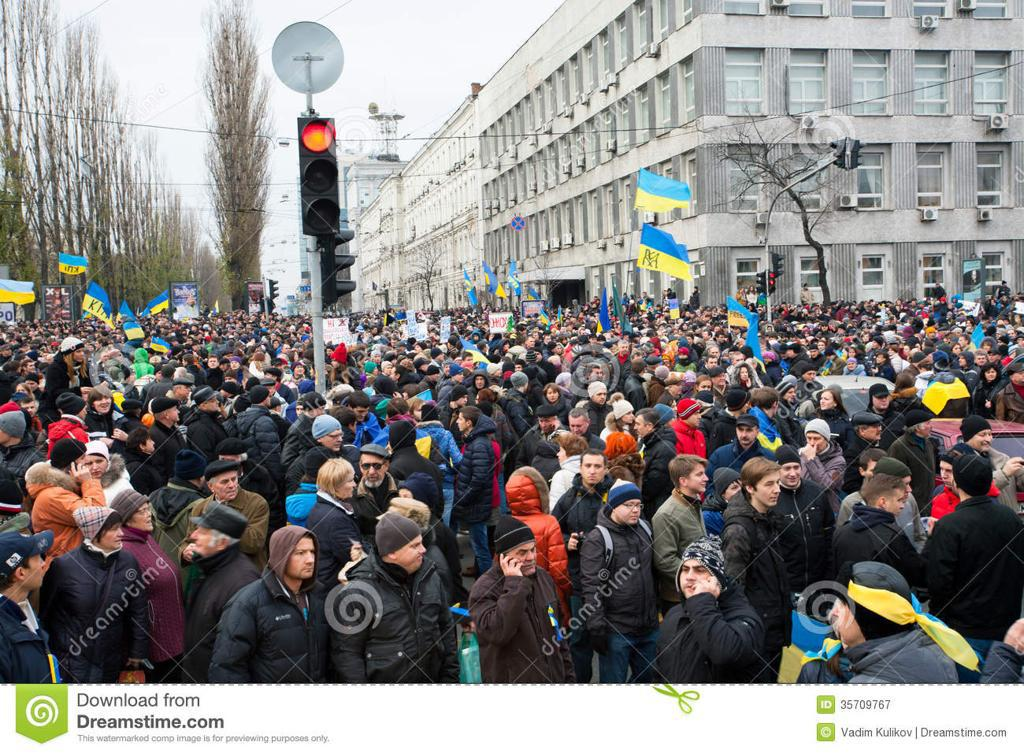face: (832, 595, 862, 649), (680, 560, 711, 600), (287, 541, 315, 579), (398, 534, 427, 570), (508, 546, 537, 577), (191, 522, 219, 552), (755, 475, 781, 507), (24, 554, 47, 590), (218, 455, 243, 482), (101, 522, 125, 550), (361, 457, 385, 484), (131, 504, 154, 532), (616, 499, 640, 525), (214, 474, 238, 499), (582, 458, 604, 484), (86, 456, 108, 479), (689, 467, 709, 492), (971, 429, 993, 451), (781, 464, 802, 487), (338, 475, 358, 498), (323, 430, 343, 451), (736, 425, 757, 445), (940, 461, 955, 489), (887, 492, 905, 514), (807, 433, 826, 452), (725, 481, 742, 502), (94, 395, 112, 413), (569, 419, 588, 436), (866, 422, 882, 440), (634, 418, 649, 437), (873, 393, 890, 409), (354, 407, 370, 422), (539, 417, 554, 433), (820, 393, 833, 411), (75, 453, 90, 468), (593, 391, 608, 406), (558, 445, 569, 465), (690, 409, 702, 427), (700, 381, 712, 399), (21, 404, 36, 418), (921, 422, 935, 437), (457, 413, 468, 432), (865, 463, 878, 479), (903, 479, 912, 502), (208, 397, 220, 412), (668, 401, 678, 418), (415, 405, 427, 419), (170, 407, 181, 422), (740, 396, 750, 412), (26, 380, 39, 392), (456, 394, 469, 406), (622, 411, 635, 423), (73, 349, 84, 363), (78, 406, 88, 421), (180, 384, 191, 397), (547, 389, 558, 402), (804, 371, 817, 382), (145, 437, 155, 451), (591, 369, 603, 380), (786, 389, 796, 402), (986, 369, 997, 380), (673, 382, 683, 394), (715, 374, 725, 386), (476, 376, 485, 389), (314, 406, 325, 416), (1014, 371, 1024, 382), (209, 359, 219, 369), (295, 366, 305, 376), (710, 349, 720, 359), (977, 356, 987, 366), (297, 407, 306, 418), (741, 368, 749, 380), (266, 386, 275, 396), (621, 345, 630, 355), (709, 360, 718, 370), (989, 352, 998, 362), (456, 371, 464, 382), (231, 361, 240, 370), (27, 364, 35, 374), (332, 359, 340, 369), (225, 376, 236, 383), (265, 373, 274, 381), (385, 366, 393, 375), (765, 356, 773, 365), (535, 352, 542, 362), (4, 349, 12, 357), (102, 355, 110, 363), (528, 339, 536, 347), (810, 350, 818, 358), (156, 371, 163, 380), (433, 373, 440, 382), (445, 366, 452, 375), (495, 368, 502, 377), (781, 350, 788, 359), (877, 355, 884, 364), (954, 346, 961, 355), (960, 356, 966, 366), (220, 363, 227, 371), (283, 346, 291, 353), (420, 364, 428, 371), (516, 365, 523, 373), (680, 352, 688, 359), (863, 334, 870, 342), (438, 352, 444, 361), (735, 357, 744, 363), (904, 346, 910, 355), (960, 338, 966, 347), (818, 343, 825, 350), (848, 363, 855, 370), (375, 355, 381, 363), (719, 336, 725, 344), (788, 349, 794, 357), (17, 387, 26, 392), (374, 366, 379, 375), (415, 346, 422, 352), (635, 354, 642, 360), (687, 337, 693, 344), (769, 335, 776, 341), (849, 350, 855, 357), (984, 344, 990, 351), (557, 347, 562, 355), (827, 352, 832, 360), (873, 340, 878, 348), (533, 334, 539, 340), (226, 354, 233, 359), (294, 353, 299, 360), (704, 333, 708, 341), (88, 346, 94, 351), (547, 337, 552, 343), (730, 353, 735, 359), (890, 350, 895, 356), (183, 359, 187, 366), (466, 357, 473, 361), (1018, 338, 1023, 343), (96, 342, 100, 348), (328, 349, 332, 355), (274, 342, 278, 347), (581, 332, 585, 336)
